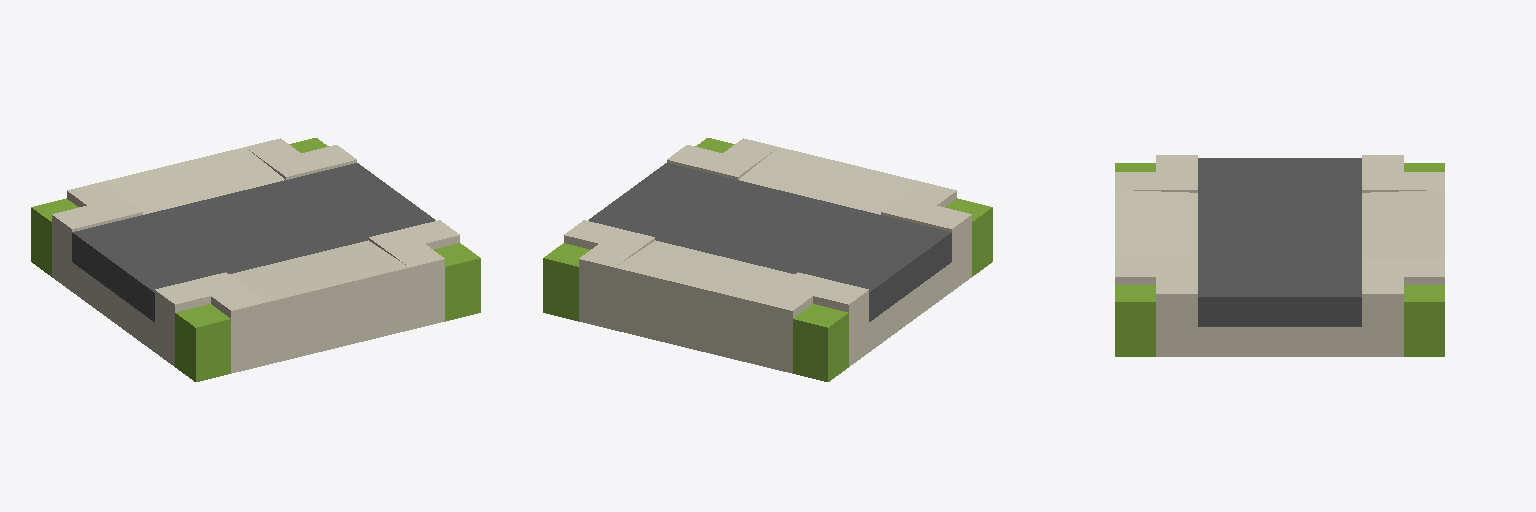
The model's file is tile061.obj.
3 renders of one model, left to right at view 1: azimuth 30°, elevation 25°; view 2: azimuth 150°, elevation 25°; view 3: azimuth 270°, elevation 25°, orthographic.
Parts seen in each view (by area): view 1: tile061; view 2: tile061; view 3: tile061.
Boxes of the visible parts, x1=… form: tile061: x1=31, y1=138, x2=480, y2=381; tile061: x1=543, y1=138, x2=992, y2=381; tile061: x1=1115, y1=155, x2=1444, y2=356.
Size of the model in its own units: 1 by 0.21 by 1.